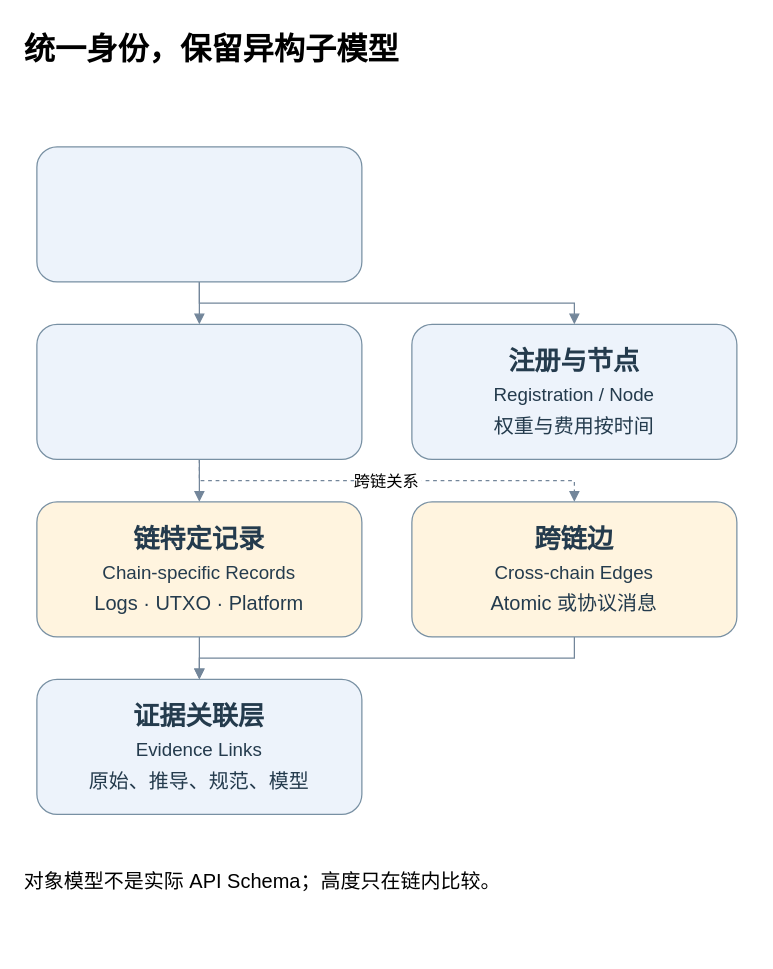
Some shapes in this 773 by 969 pixel diagram are drawn without their labels. The shapes that lost their labels are listed below. From the top down, each one's centre as x and y in pixels, then its label:
pixel 199 214: 网络与网络组织 Network / Subnet 归属与版本
pixel 199 391: 区块链与历史 Blockchain / History Block → Transaction
